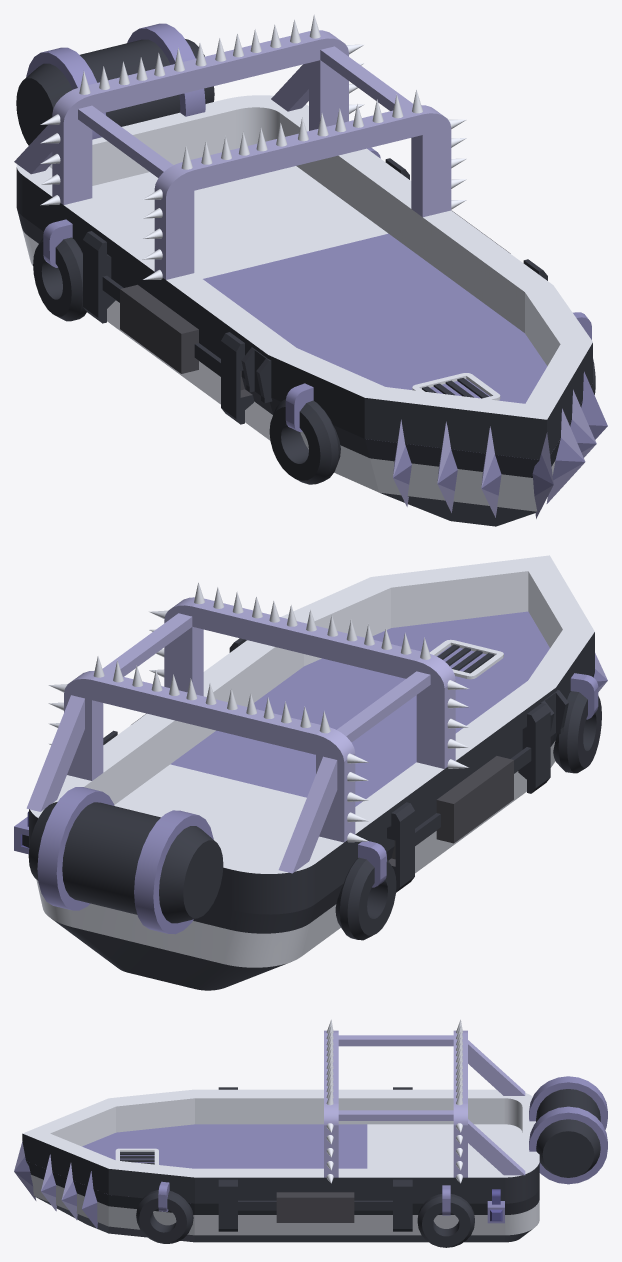
File: boat large.fbx
3 views of the same model, one above another, from view 1: azimuth 30°, elevation 25°; view 2: azimuth 150°, elevation 25°; view 3: azimuth 270°, elevation 25° (orthographic). The views are drawn at different scales.
Visible parts, largest first — view 1: hull_half, rail_front, detail_rollbarLarge, rail_back, hull_halfBack, hull_halfFront, detail_rollbar, rail, detail_tank, bogie_frame, detail_tireAttachment (×2), blade_dual_top (×7) (+2 smaller); view 2: hull_halfBack, detail_tank, detail_rollbar, rail_front, detail_rollbarLarge, hull_half, rail_back, rail, hull_halfFront, bogie_frame, detail_tireAttachment (×2), grate_square (+1 smaller); view 3: hull_half, rail_front, rail, rail_back, hull_halfBack, detail_tank, hull_halfFront, bogie_frame, detail_tireAttachment (×2), detail_rollbarLarge, detail_rollbar, blade_dual_top (×4) (+2 smaller).
Boxes of the visible parts, box(x1,y1,x2,y2) form: hull_half: box(145, 233, 524, 440); rail_front: box(268, 285, 592, 459); detail_rollbarLarge: box(64, 41, 451, 279); rail_back: box(16, 95, 411, 287); hull_halfBack: box(17, 166, 387, 349); hull_halfFront: box(270, 333, 592, 526); detail_rollbar: box(14, 30, 348, 204); rail: box(131, 187, 552, 378); detail_tank: box(16, 23, 214, 145); bogie_frame: box(83, 231, 253, 424); detail_tireAttachment (×2): box(33, 219, 340, 484); blade_dual_top (×7): box(393, 371, 607, 518); hull_halfBack: box(36, 764, 416, 990); detail_tank: box(28, 787, 223, 934); detail_rollbar: box(26, 671, 355, 873); rail_front: box(281, 555, 594, 699); detail_rollbarLarge: box(64, 597, 455, 841); hull_half: box(170, 666, 554, 873); rail_back: box(29, 717, 422, 914); rail: box(142, 640, 555, 822); hull_halfFront: box(304, 611, 594, 767); bogie_frame: box(387, 703, 550, 892); detail_tireAttachment (×2): box(335, 673, 601, 940); grate_square: box(429, 639, 503, 679); hull_half: box(194, 1124, 367, 1242); rail_front: box(22, 1089, 194, 1203); rail: box(195, 1089, 367, 1203); rail_back: box(367, 1089, 539, 1203); hull_halfBack: box(367, 1124, 539, 1242); detail_tank: box(529, 1076, 607, 1184); hull_halfFront: box(26, 1124, 194, 1242); bogie_frame: box(218, 1179, 412, 1231); detail_tireAttachment (×2): box(136, 1181, 474, 1247); detail_rollbarLarge: box(324, 1030, 453, 1177); detail_rollbar: box(453, 1030, 525, 1177); blade_dual_top (×4): box(14, 1141, 97, 1228).
Bounding box in the file's own units: 25.42 × 19.53 × 62.
